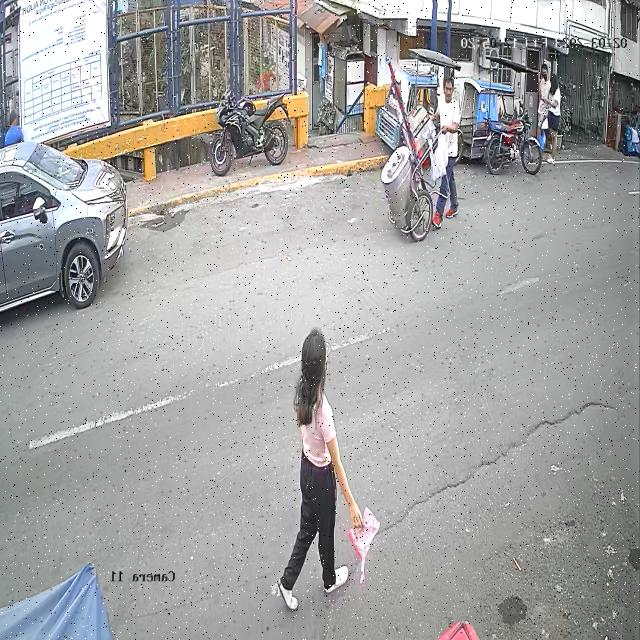human: (278, 328, 381, 610)
trash: (344, 496, 380, 590)
